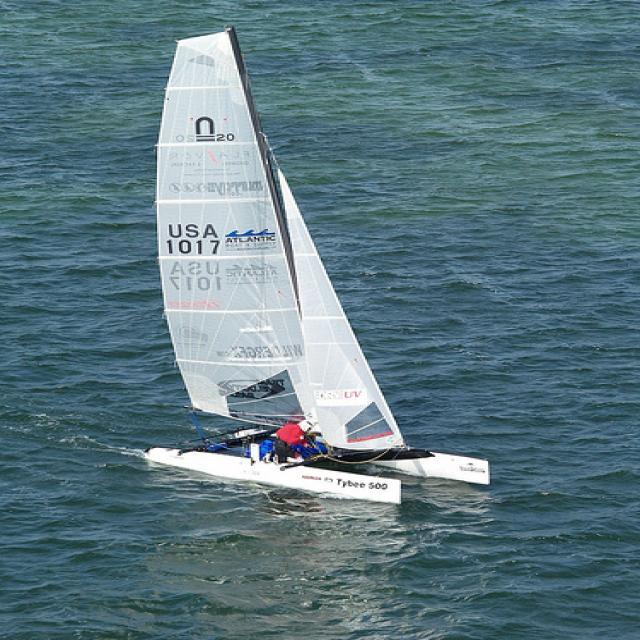Ship: (123, 27, 497, 502)
